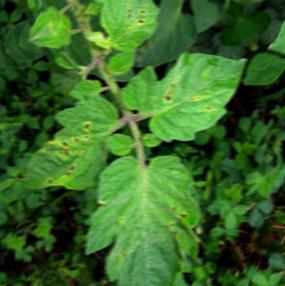Tomato leaf bacterial spot: (53, 128, 234, 286), (112, 22, 276, 168), (0, 84, 151, 228), (88, 0, 174, 62)
